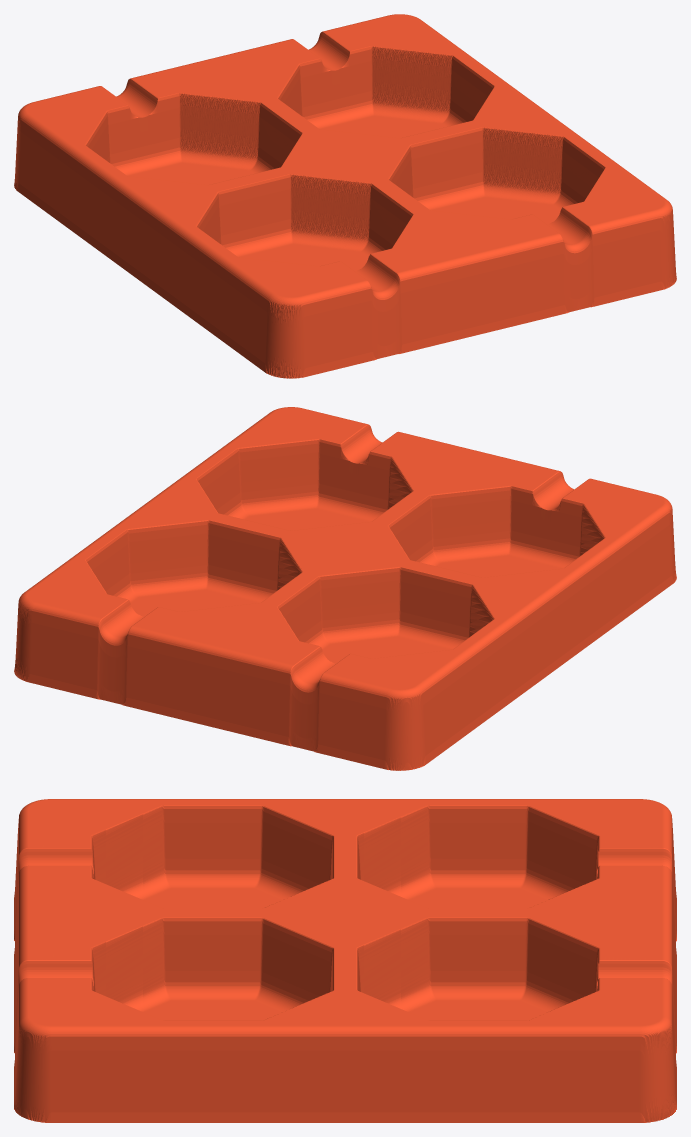
Rendered from mold.glb.
3 renders of one model, top to bottom at view 1: azimuth 30°, elevation 25°; view 2: azimuth 150°, elevation 25°; view 3: azimuth 270°, elevation 25°, orthographic. The views are drawn at different scales.
Parts seen in each view (by area): view 1: geometry_0; view 2: geometry_0; view 3: geometry_0.
Part boxes in pixels (bbox=[...]): geometry_0: bbox=[14, 14, 676, 378]; geometry_0: bbox=[14, 407, 676, 770]; geometry_0: bbox=[14, 799, 676, 1122].
Size of the model in its own units: 0.1379 by 0.0245 by 0.1621.
